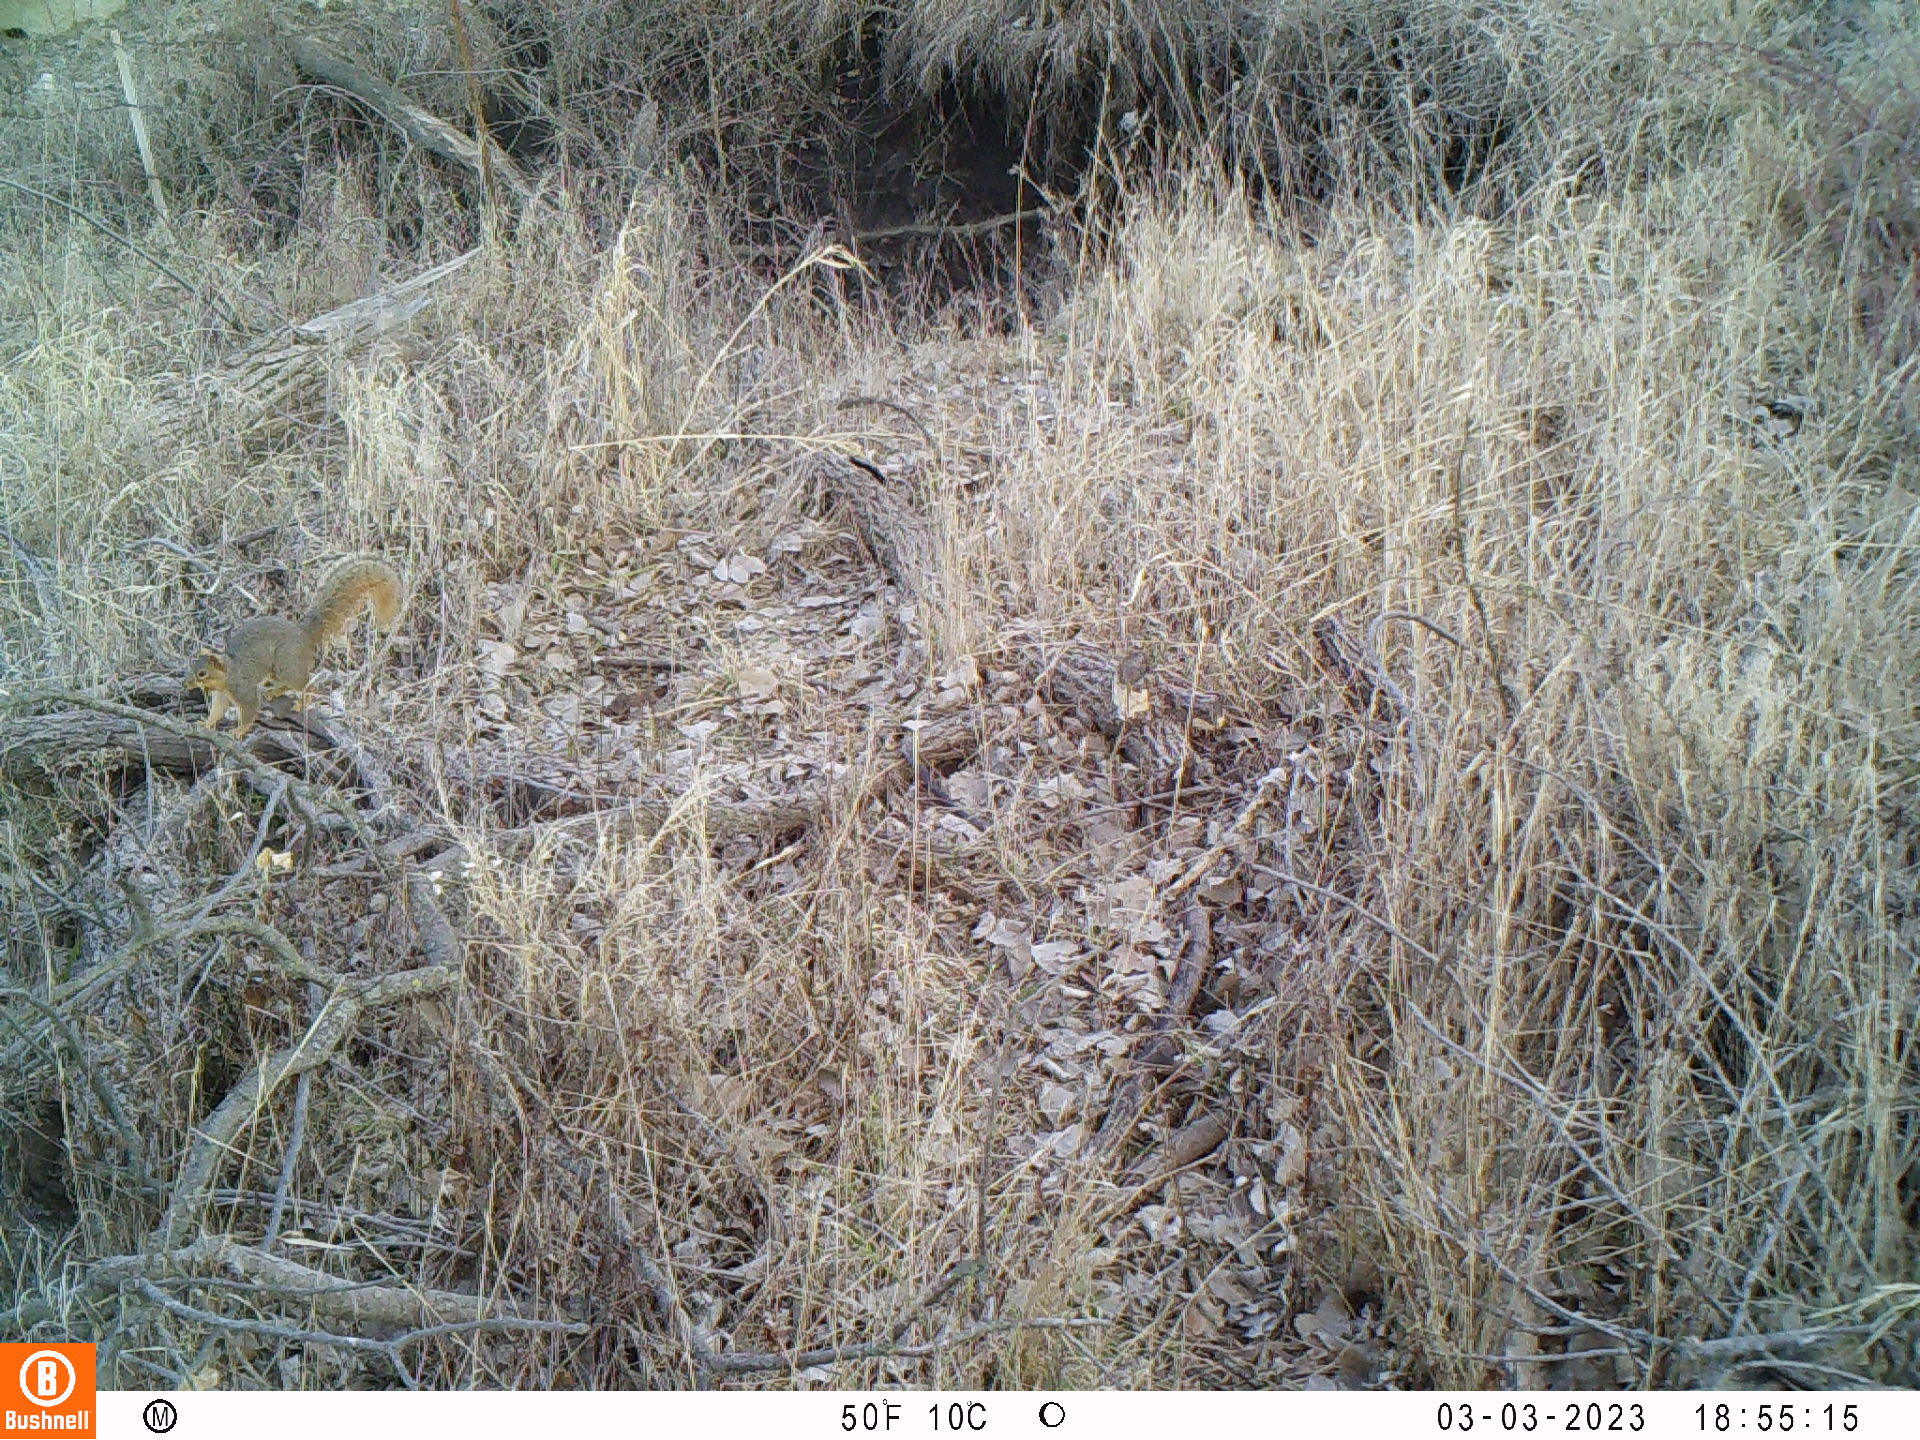Squirrel: (189, 560, 404, 728)
